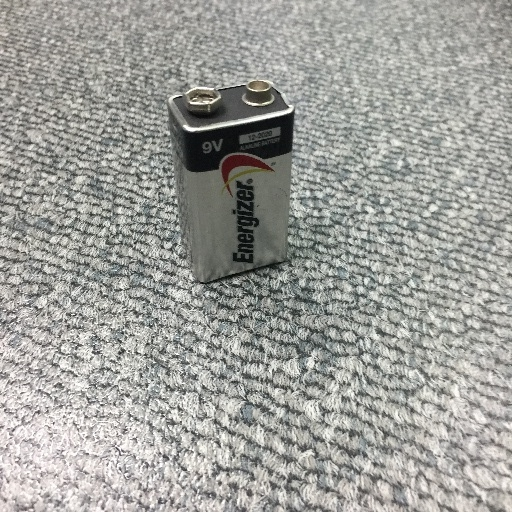Battery_3: (163, 63, 315, 291)
